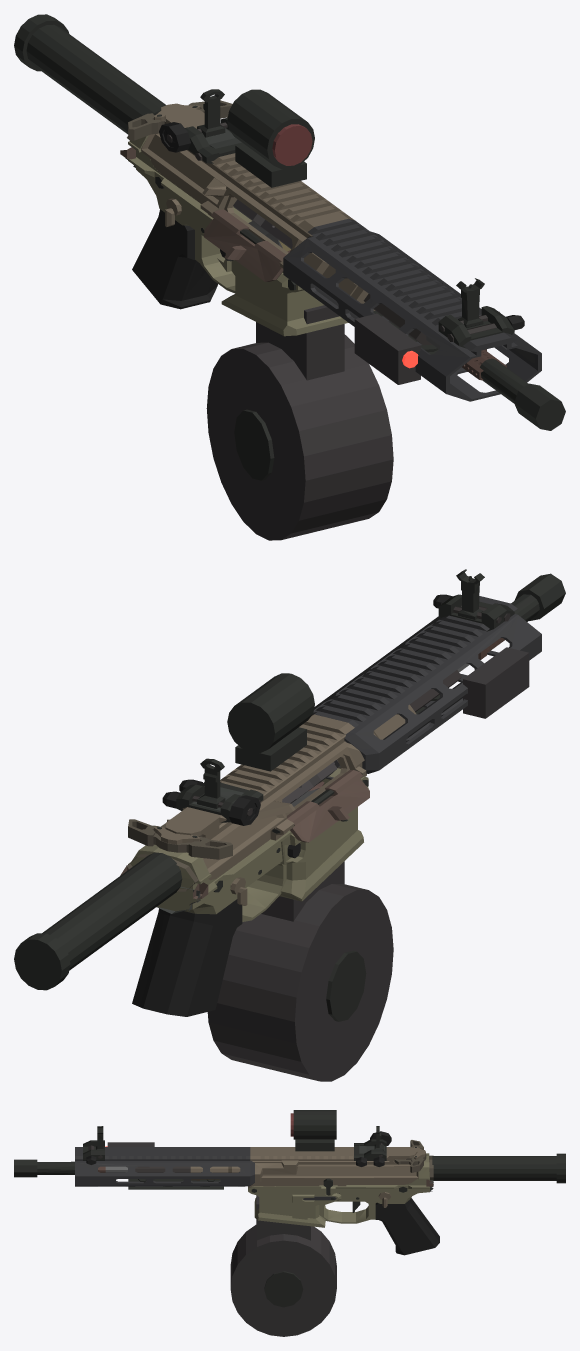
Rendered from arp.glb.
3 views of the same model, one above another, from view 1: azimuth 30°, elevation 25°; view 2: azimuth 150°, elevation 25°; view 3: azimuth 270°, elevation 25° (orthographic). The views are drawn at different scales.
Visible parts, largest first — view 1: arp_mesh; view 2: arp_mesh; view 3: arp_mesh.
Part boxes in pixels (bbox=[...]): arp_mesh: bbox=[14, 14, 565, 540]; arp_mesh: bbox=[14, 569, 565, 1081]; arp_mesh: bbox=[14, 1110, 565, 1336].
Bounding box in the file's own units: 0.0991 × 0.3208 × 0.75.
Materials: 3 (3 with a texture image).
